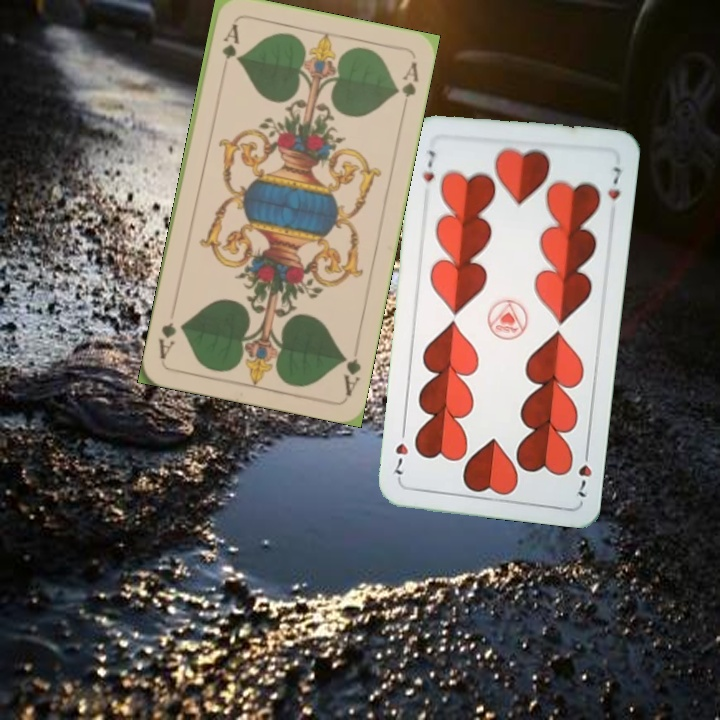GA: (338, 349, 364, 399), (218, 20, 242, 62)
H7: (571, 443, 596, 500), (419, 146, 438, 184)
